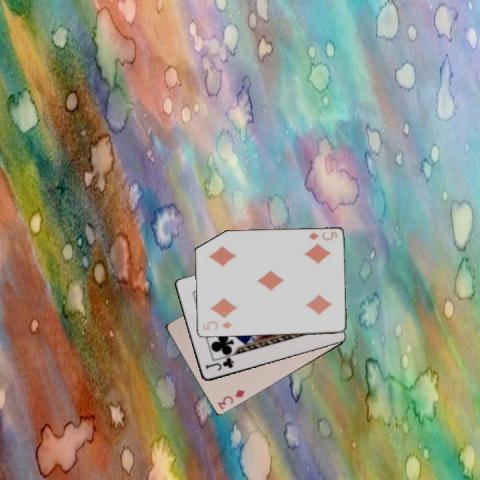3d: (215, 386, 246, 410)
5d: (305, 229, 338, 242), (200, 319, 233, 331)
Jc: (202, 355, 234, 373)
